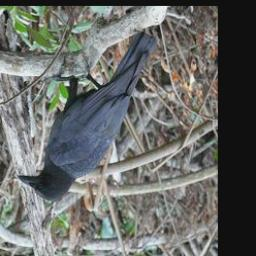Crow: (15, 27, 158, 203)
